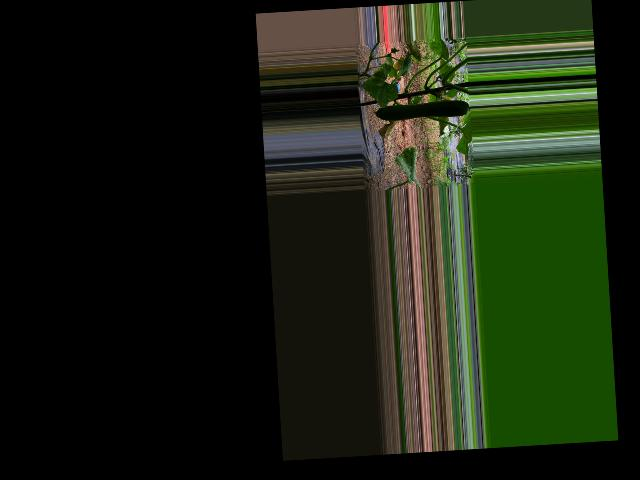cucumber: (372, 99, 469, 122)
